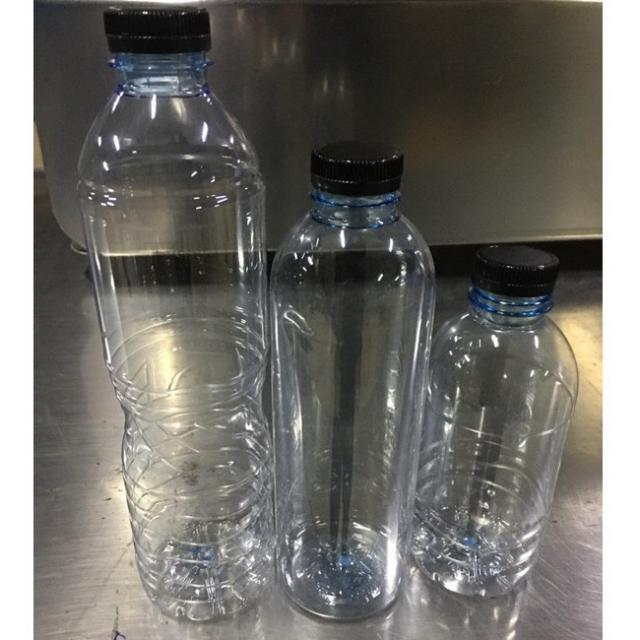PET Bottle: (70, 0, 277, 631), (268, 129, 437, 625), (424, 228, 576, 636)
